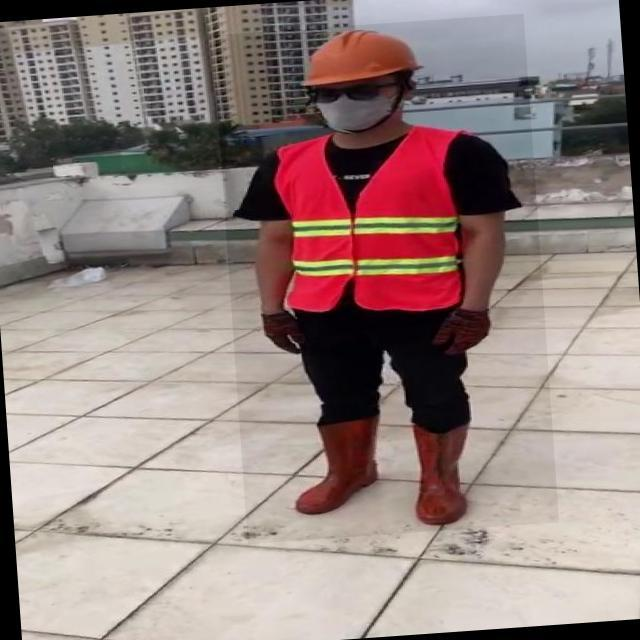Gloves: (430, 309, 491, 356), (260, 311, 307, 356)
Helmet: (291, 24, 426, 87)
Human: (212, 13, 559, 544)
Safety Boot: (292, 418, 380, 516), (410, 421, 475, 526)
Safety Vest: (274, 127, 466, 318)
